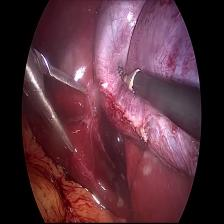Grasper: (21, 45, 94, 161)
Hook: (115, 64, 146, 97)
